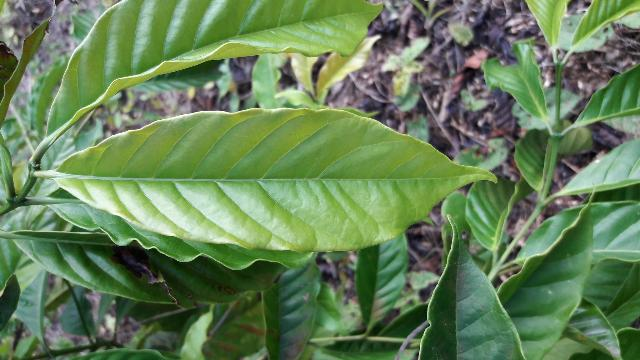healthy: (59, 110, 497, 251)
